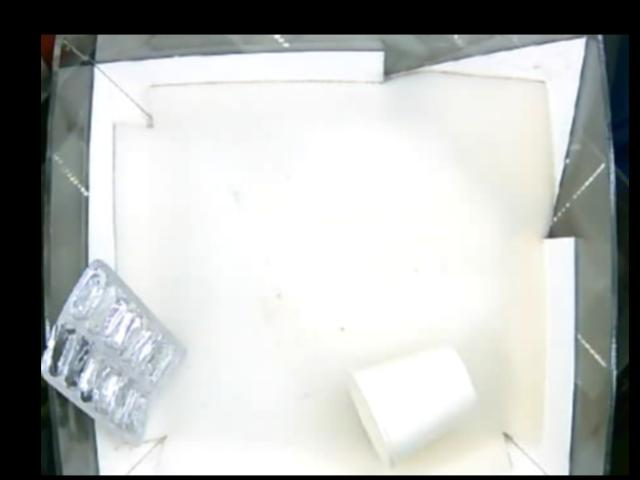Battery: (42, 257, 188, 445)
Cup: (351, 344, 478, 464)
